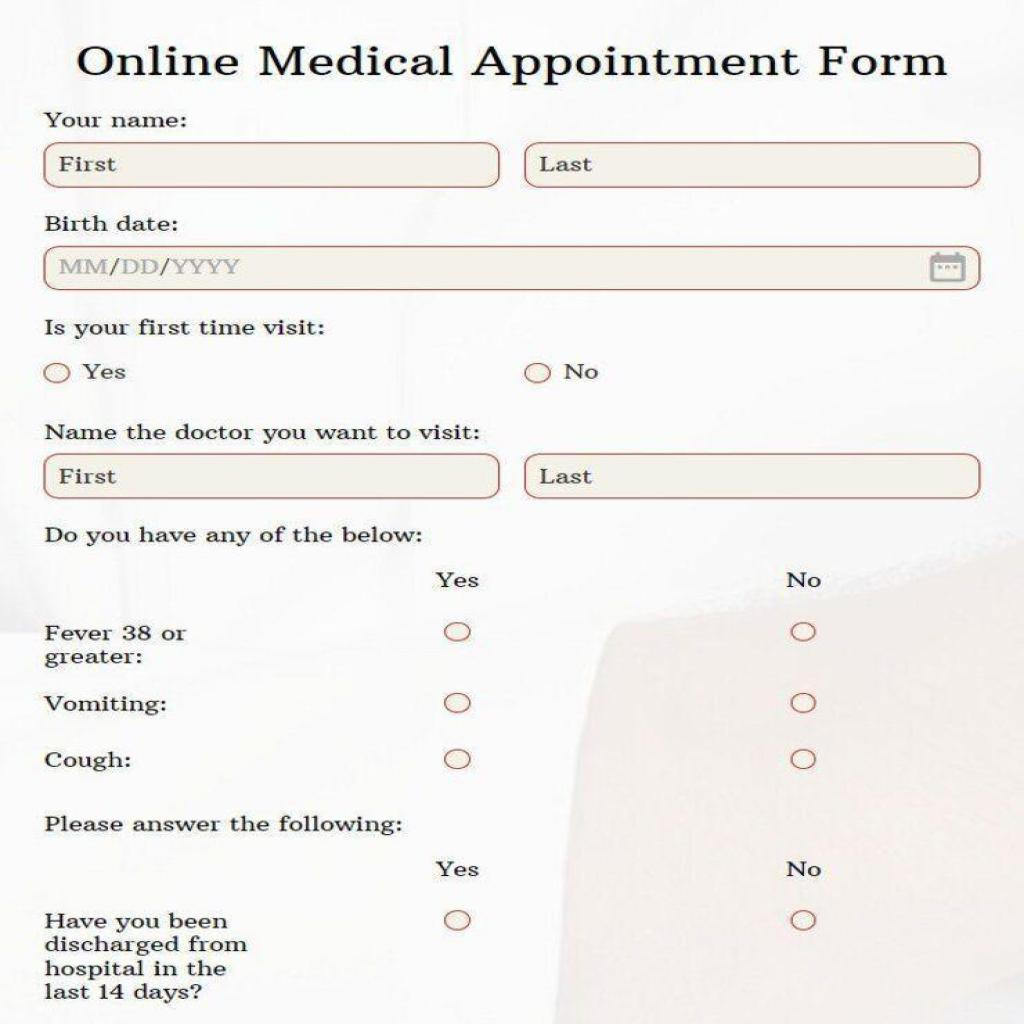input: (35, 236, 988, 300), (519, 135, 984, 197), (37, 139, 504, 197), (523, 449, 985, 503), (43, 452, 499, 500)
label: (33, 902, 273, 1020), (28, 805, 412, 841), (34, 518, 430, 550), (36, 620, 201, 679), (42, 315, 330, 346), (38, 420, 482, 439), (34, 685, 178, 720), (42, 106, 206, 131), (408, 558, 491, 600), (34, 215, 186, 236), (761, 559, 840, 595), (774, 854, 842, 888), (39, 751, 133, 775), (429, 848, 488, 882), (556, 357, 606, 395), (80, 354, 134, 388)
radio: (515, 358, 552, 392), (785, 746, 826, 775), (40, 356, 73, 392), (443, 901, 477, 933), (440, 618, 480, 645), (789, 908, 826, 936), (443, 688, 476, 719), (786, 688, 822, 716), (786, 618, 826, 643), (440, 745, 473, 775)
